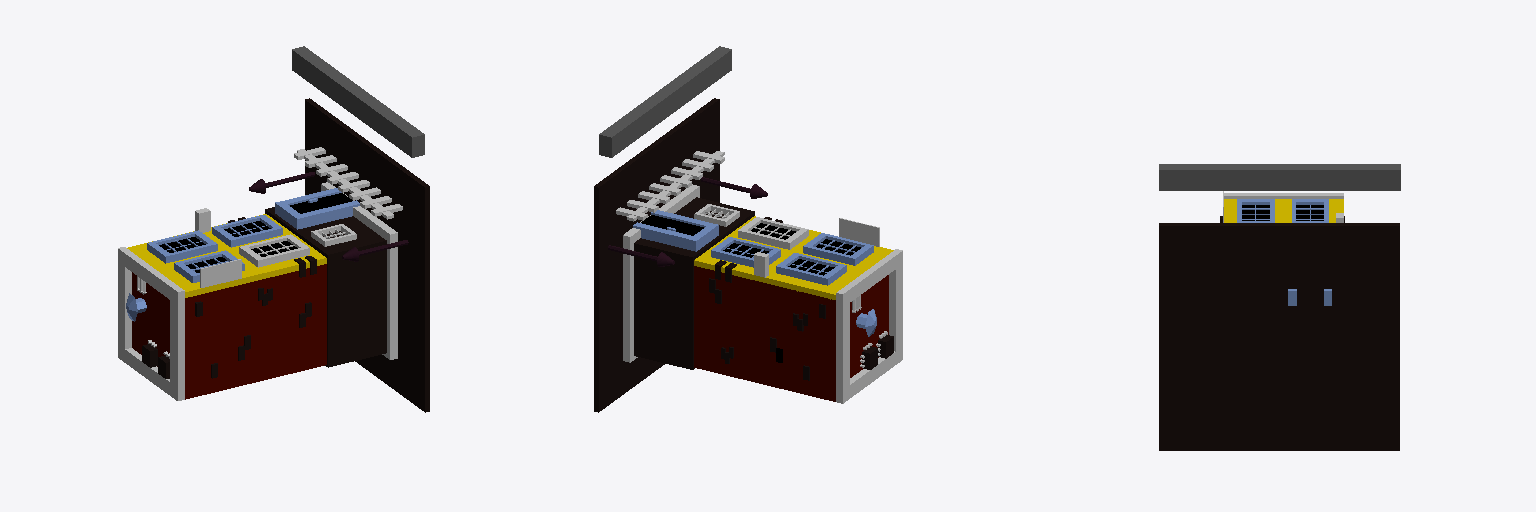
3 renders of one model, left to right at view 1: azimuth 30°, elevation 25°; view 2: azimuth 150°, elevation 25°; view 3: azimuth 270°, elevation 25°, orthographic.
Parts seen in each view (by area): view 1: Cube.462_Cube.002, Cube.465_Cube.002, Cube.466_Cube.002, Cube.467_Cube.002, Cube.475_Cube.484, Cube.480_Cube.002, Cube.474_Cube.002, Cube.481_Cube.002, Cube.482_Cube.002, Cube.472_Cube.002, Cube.469_Cube.002, Cube.473_Cube.002 (+4 smaller); view 2: Cube.462_Cube.002, Cube.465_Cube.002, Cube.466_Cube.002, Cube.467_Cube.002, Cube.475_Cube.484, Cube.480_Cube.002, Cube.474_Cube.002, Cube.481_Cube.002, Cube.482_Cube.002, Cube.468_Cube.002, Cube.472_Cube.002, Cube.469_Cube.002 (+4 smaller); view 3: Cube.465_Cube.002, Cube.475_Cube.484, Cube.480_Cube.002, Cube.467_Cube.002, Cube.468_Cube.002, Cube.469_Cube.002.
Boxes of the visible parts, x1,y1,x2,y2 form: Cube.462_Cube.002: [132, 264, 326, 399]; Cube.465_Cube.002: [305, 98, 429, 412]; Cube.466_Cube.002: [265, 207, 386, 367]; Cube.467_Cube.002: [118, 247, 184, 400]; Cube.475_Cube.484: [292, 46, 424, 157]; Cube.480_Cube.002: [127, 214, 326, 297]; Cube.474_Cube.002: [294, 147, 402, 219]; Cube.481_Cube.002: [321, 182, 397, 359]; Cube.482_Cube.002: [275, 188, 359, 229]; Cube.472_Cube.002: [239, 234, 309, 267]; Cube.469_Cube.002: [147, 230, 217, 263]; Cube.473_Cube.002: [212, 215, 282, 247]; Cube.462_Cube.002: [694, 266, 888, 401]; Cube.465_Cube.002: [594, 98, 719, 412]; Cube.466_Cube.002: [634, 197, 754, 369]; Cube.467_Cube.002: [836, 249, 902, 403]; Cube.475_Cube.484: [599, 46, 731, 157]; Cube.480_Cube.002: [694, 216, 893, 299]; Cube.474_Cube.002: [616, 151, 724, 221]; Cube.481_Cube.002: [623, 184, 699, 362]; Cube.482_Cube.002: [633, 210, 718, 251]; Cube.468_Cube.002: [803, 233, 873, 265]; Cube.472_Cube.002: [738, 217, 808, 249]; Cube.469_Cube.002: [776, 253, 846, 285]; Cube.465_Cube.002: [1159, 223, 1399, 450]; Cube.475_Cube.484: [1159, 164, 1400, 190]; Cube.480_Cube.002: [1224, 199, 1343, 222]; Cube.467_Cube.002: [1224, 193, 1343, 198]; Cube.468_Cube.002: [1237, 199, 1274, 222]; Cube.469_Cube.002: [1292, 199, 1328, 222].
Bounding box in the file's own units: 271 × 305 × 240.